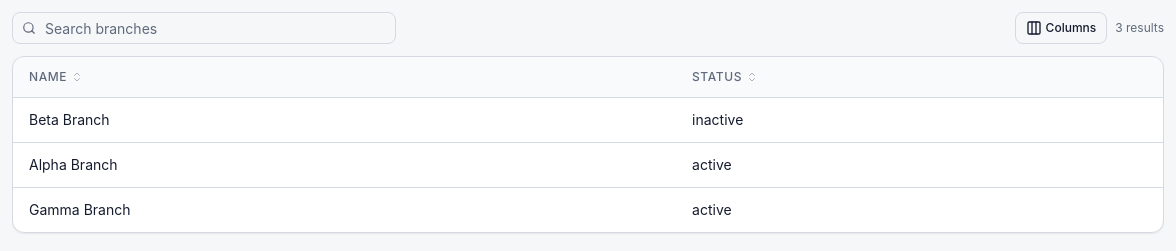
Scenario: StandardTable › filters rows and renders the empty state
In the field labelled "Search branches": (204, 28) [12,12,396,44], type "alpha"
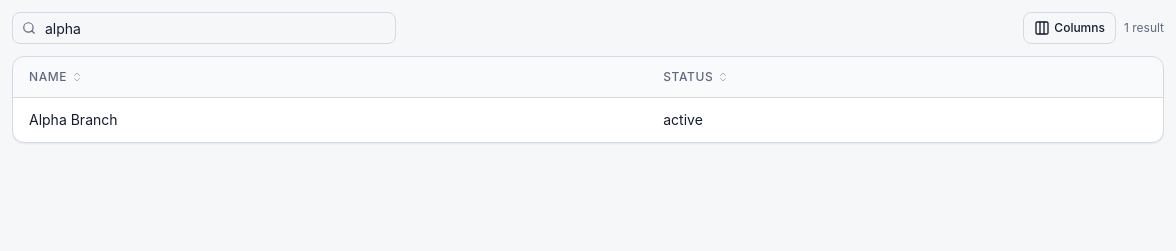
Check: the text "Alpha Branch" is shown, box [13,98,647,142]
Check: the text "Beta Branch" is gone
Replace the text in the field named "Search branches" with "missing": (204, 28) [12,12,396,44]
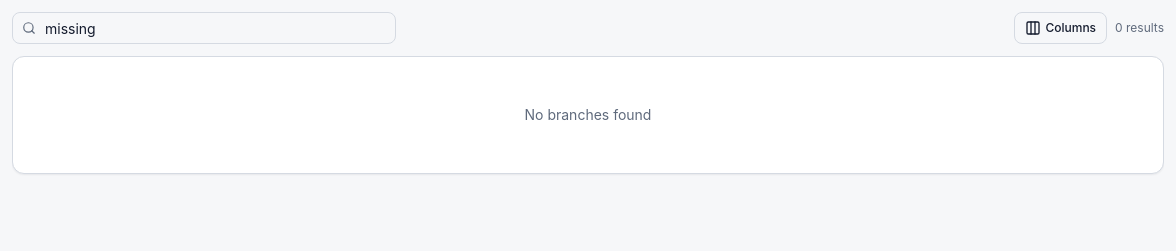
Check: the text "No branches found" is shown, box [524,106,651,123]
